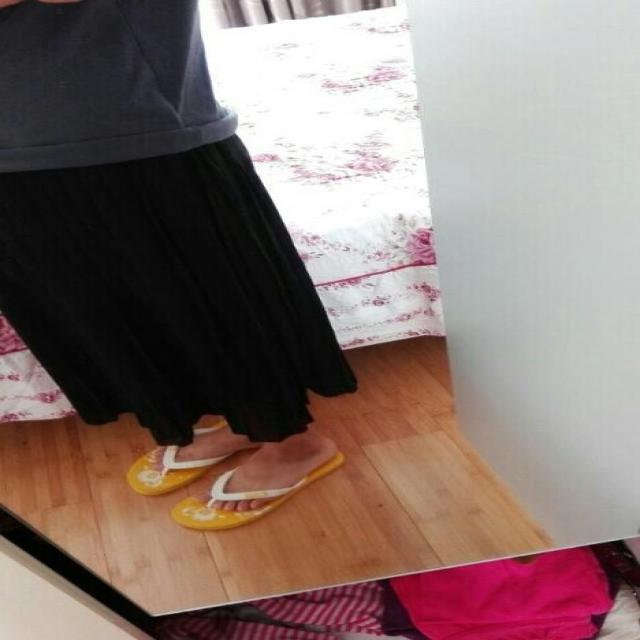short sleeve top: (1, 1, 241, 177)
skirt: (0, 121, 358, 433)
